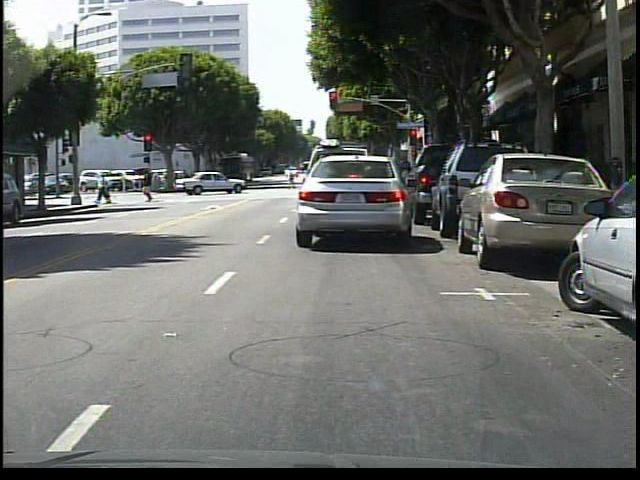person: (97, 173, 115, 206), (143, 171, 157, 204), (288, 166, 298, 190)
